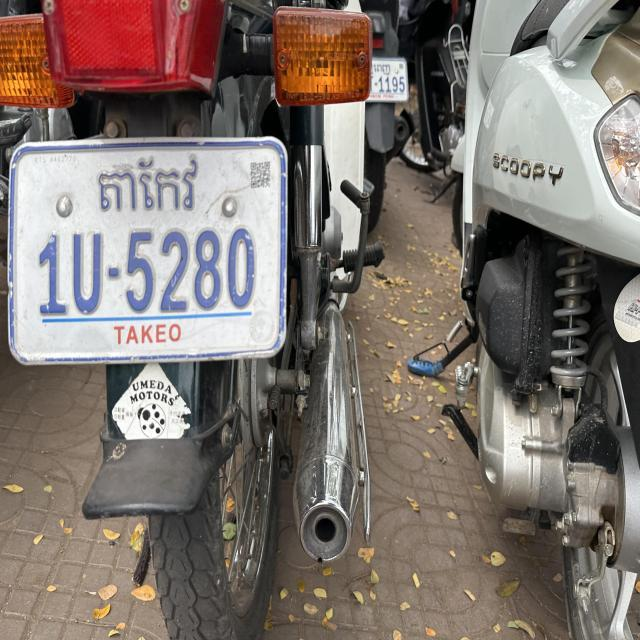Takeo: (98, 153, 196, 217)
